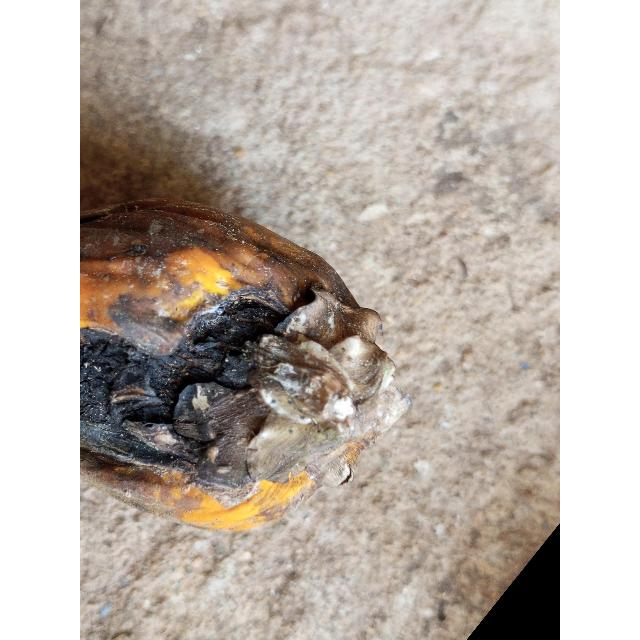damaged: (80, 189, 409, 537)
